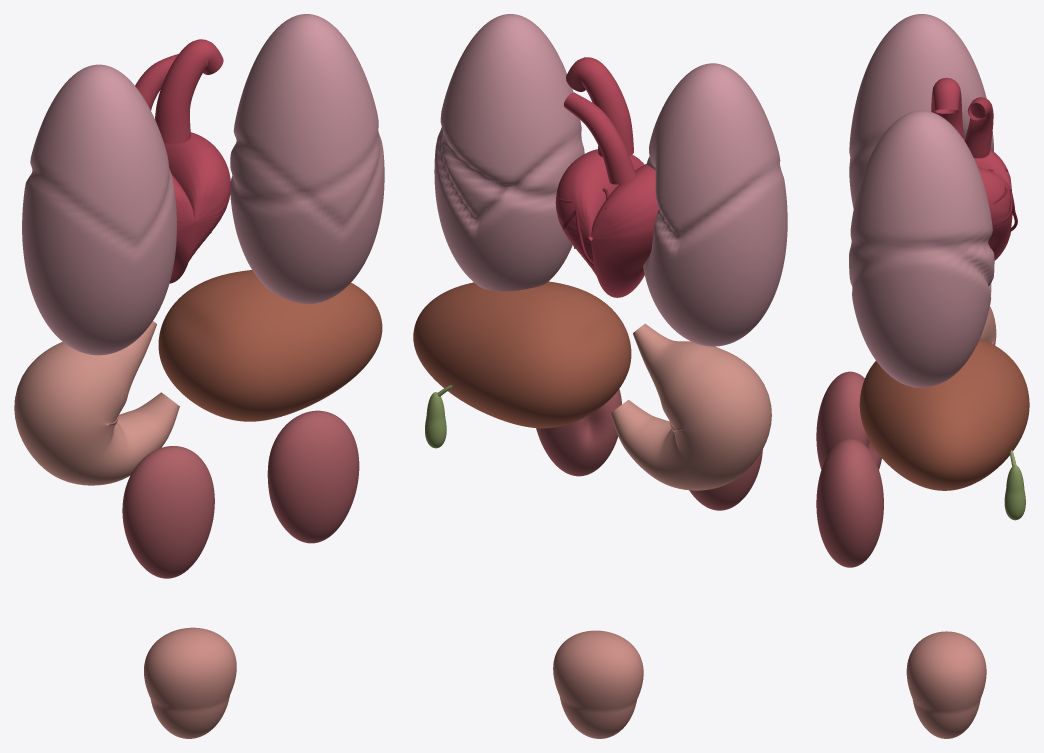
The model's file is organs.glb.
The picture shows the model from 3 angles, left to right: view 1: azimuth 30°, elevation 25°; view 2: azimuth 150°, elevation 25°; view 3: azimuth 270°, elevation 25°; orthographic projection. The views are drawn at different scales.
Parts seen in each view (by area): view 1: Lung_L, Lung_R, Liver, Stomach, Heart, Kidney_L, Kidney_R, Bladder; view 2: Lung_L, Lung_R, Liver, Stomach, Heart, Bladder, Kidney_R, Kidney_L, Gallbladder; view 3: Lung_R, Liver, Lung_L, Kidney_R, Bladder, Heart, Kidney_L, Gallbladder, Stomach.
Boxes of the visible parts, x1=… form: Lung_L: x1=22, y1=64, x2=176, y2=355; Lung_R: x1=230, y1=14, x2=384, y2=304; Liver: x1=158, y1=270, x2=382, y2=421; Stomach: x1=14, y1=321, x2=179, y2=485; Heart: x1=135, y1=39, x2=230, y2=283; Kidney_L: x1=122, y1=446, x2=214, y2=578; Kidney_R: x1=267, y1=410, x2=359, y2=543; Bladder: x1=144, y1=627, x2=236, y2=738; Lung_L: x1=643, y1=63, x2=787, y2=346; Lung_R: x1=434, y1=14, x2=584, y2=291; Liver: x1=413, y1=281, x2=631, y2=428; Stomach: x1=610, y1=323, x2=771, y2=490; Heart: x1=555, y1=57, x2=658, y2=297; Bladder: x1=553, y1=630, x2=643, y2=738; Kidney_R: x1=536, y1=389, x2=621, y2=476; Kidney_L: x1=689, y1=449, x2=762, y2=510; Gallbladder: x1=425, y1=392, x2=446, y2=448; Lung_R: x1=849, y1=110, x2=994, y2=387; Liver: x1=859, y1=339, x2=1029, y2=490; Lung_L: x1=849, y1=14, x2=993, y2=208; Kidney_R: x1=816, y1=439, x2=883, y2=567; Bladder: x1=906, y1=631, x2=986, y2=738; Heart: x1=931, y1=77, x2=1012, y2=260; Kidney_L: x1=816, y1=371, x2=881, y2=469; Gallbladder: x1=1004, y1=465, x2=1025, y2=520; Stomach: x1=980, y1=306, x2=996, y2=345.
Size of the model in its own units: 0.3952 by 0.745 by 0.2144.
